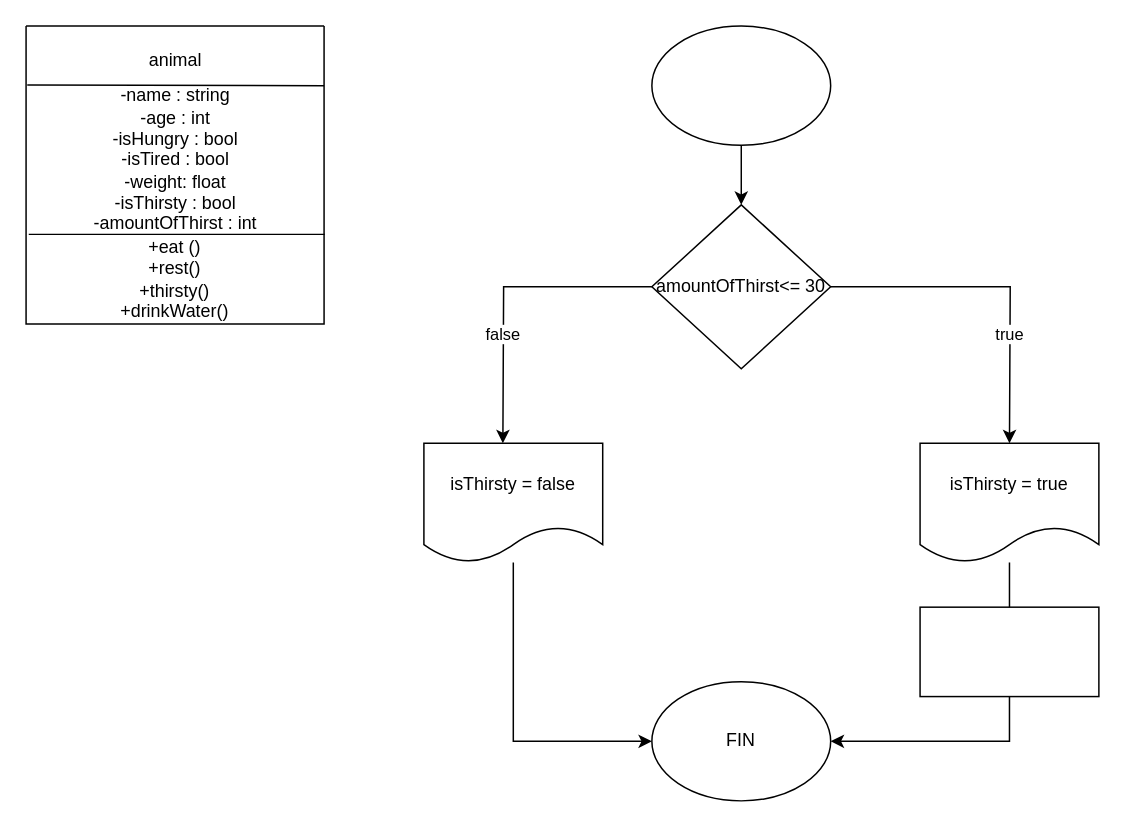
Image size: 1125x827. Some labels were removed from this diagram. The centre of each missing label's shape, as x and y in pixels:
drinkWater(): point 1009,651
thirsty(): point 740,85
